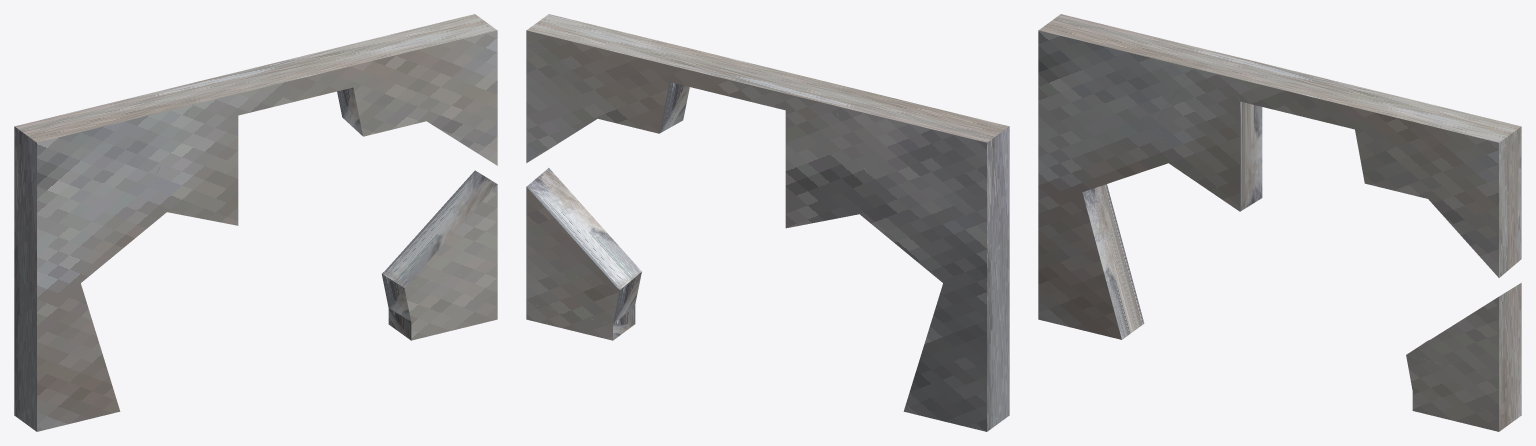
File: Pared-Hoyo-Small.gltf
The picture shows the model from 3 angles, left to right: view 1: azimuth 30°, elevation 25°; view 2: azimuth 150°, elevation 25°; view 3: azimuth 330°, elevation 25°; orthographic projection.
Visible parts, largest first — view 1: Cube_cell.012, Cube_cell.005, Cube_cell, Cube_cell.013, Cube_cell.004, Cube_cell.014, Cube_cell.006, Cube_cell.010, Cube_cell.002, Cube_cell.001, Cube_cell.009; view 2: Cube_cell.012, Cube_cell.005, Cube_cell, Cube_cell.013, Cube_cell.004, Cube_cell.014, Cube_cell.006, Cube_cell.010, Cube_cell.002, Cube_cell.001, Cube_cell.009; view 3: Cube_cell.012, Cube_cell.005, Cube_cell.013, Cube_cell, Cube_cell.002, Cube_cell.004, Cube_cell.006, Cube_cell.010, Cube_cell.014, Cube_cell.001, Cube_cell.009.
Boxes of the visible parts, <box> form: Cube_cell.012: <box>14,258,120,431</box>; Cube_cell.005: <box>332,14,497,136</box>; Cube_cell: <box>14,136,166,283</box>; Cube_cell.013: <box>155,79,238,225</box>; Cube_cell.004: <box>385,170,497,287</box>; Cube_cell.014: <box>14,114,92,246</box>; Cube_cell.006: <box>66,88,190,175</box>; Cube_cell.010: <box>206,49,353,115</box>; Cube_cell.002: <box>427,42,497,165</box>; Cube_cell.001: <box>382,265,497,321</box>; Cube_cell.009: <box>388,300,497,340</box>; Cube_cell.012: <box>903,258,1009,431</box>; Cube_cell.005: <box>526,14,692,133</box>; Cube_cell: <box>859,140,1009,283</box>; Cube_cell.013: <box>785,80,870,228</box>; Cube_cell.004: <box>526,168,641,287</box>; Cube_cell.014: <box>932,113,1009,247</box>; Cube_cell.006: <box>833,88,955,179</box>; Cube_cell.010: <box>669,49,819,110</box>; Cube_cell.002: <box>526,40,597,162</box>; Cube_cell.001: <box>526,265,641,323</box>; Cube_cell.009: <box>526,303,635,340</box>; Cube_cell.012: <box>1038,162,1144,339</box>; Cube_cell.005: <box>1355,91,1521,198</box>; Cube_cell.013: <box>1157,51,1262,211</box>; Cube_cell: <box>1038,51,1168,192</box>; Cube_cell.002: <box>1428,135,1521,277</box>; Cube_cell.004: <box>1406,283,1521,377</box>; Cube_cell.006: <box>1092,26,1214,120</box>; Cube_cell.010: <box>1227,61,1377,129</box>; Cube_cell.014: <box>1038,14,1111,134</box>; Cube_cell.001: <box>1406,340,1521,412</box>; Cube_cell.009: <box>1412,392,1521,431</box>.
Bounding box in the file's own units: 24.4 × 14.64 × 2.06.
Materials: 1 (1 with a texture image).
